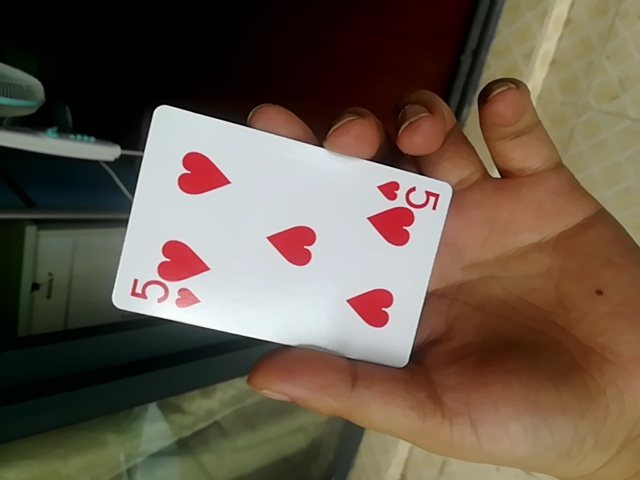hx 5: (109, 106, 452, 368)
